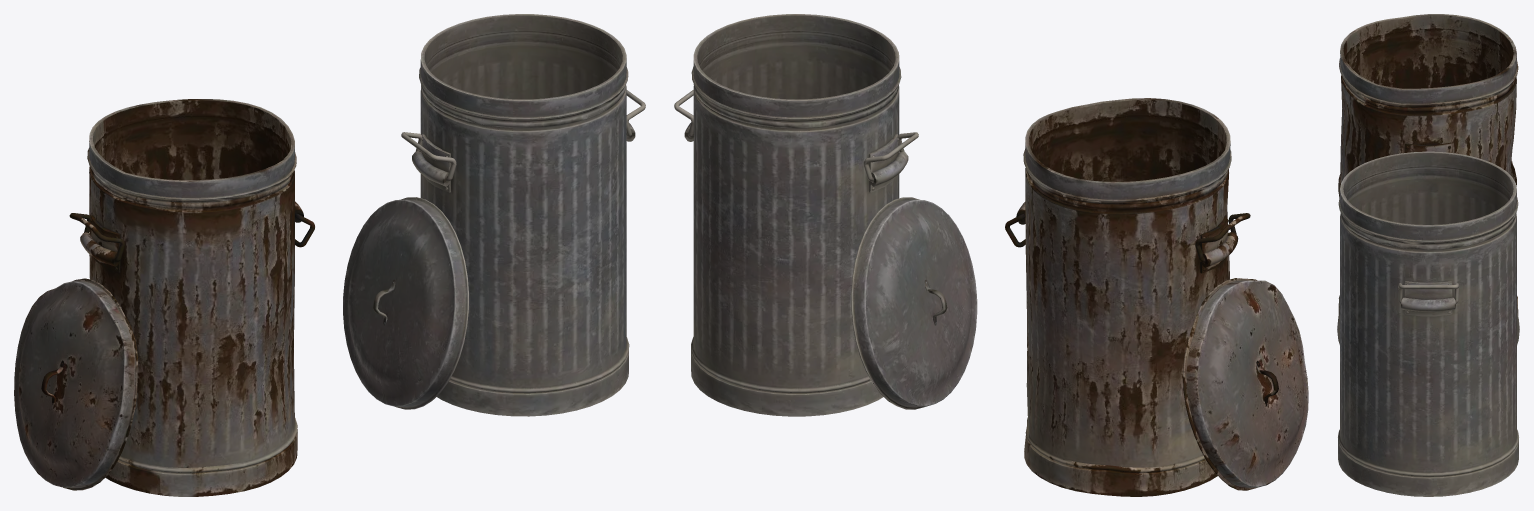
Rendered from metal-trash-can.glb.
3 views of the same model, side by side, from view 1: azimuth 30°, elevation 25°; view 2: azimuth 150°, elevation 25°; view 3: azimuth 270°, elevation 25° (orthographic). The views are drawn at different scales.
Parts seen in each view (by area): view 1: metal_trash_can_handle_left, metal_trash_can_rust; view 2: metal_trash_can_handle_left, metal_trash_can_rust; view 3: metal_trash_can_handle_left, metal_trash_can_rust.
Boxes of the visible parts, <box> form: metal_trash_can_handle_left: <box>343,14,645,416</box>; metal_trash_can_rust: <box>14,99,314,496</box>; metal_trash_can_handle_left: <box>674,14,977,416</box>; metal_trash_can_rust: <box>1005,98,1308,496</box>; metal_trash_can_handle_left: <box>1337,151,1519,496</box>; metal_trash_can_rust: <box>1338,14,1518,316</box>.
Bounding box in the file's own units: 1.78 × 0.9062 × 0.5563.
Materials: 2 (2 with a texture image).
